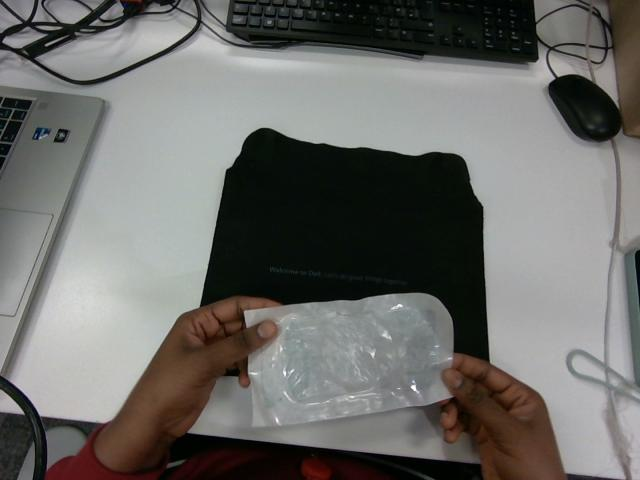gallipot: (245, 293, 452, 425)
